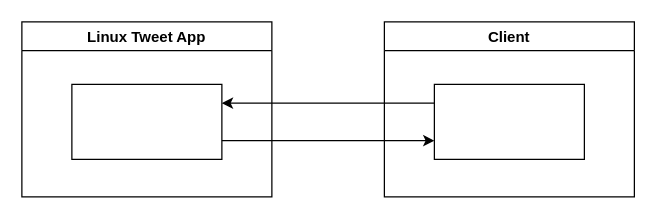
Some shapes in this 656 by 219 pixel diagram are drawn without their labels. The box of each missing label's shape, as (x1, y1, x2, y2) in pixels:
NginX Server: (71, 83, 222, 159)
Web Browser: (433, 83, 584, 159)
